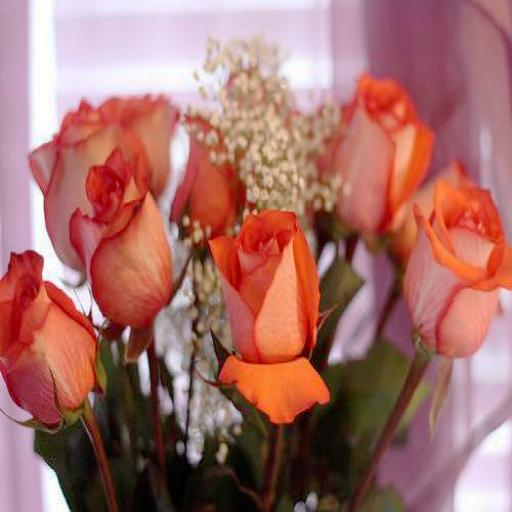rose: (210, 209, 331, 420), (406, 172, 512, 359), (69, 151, 174, 324), (326, 71, 432, 229)
